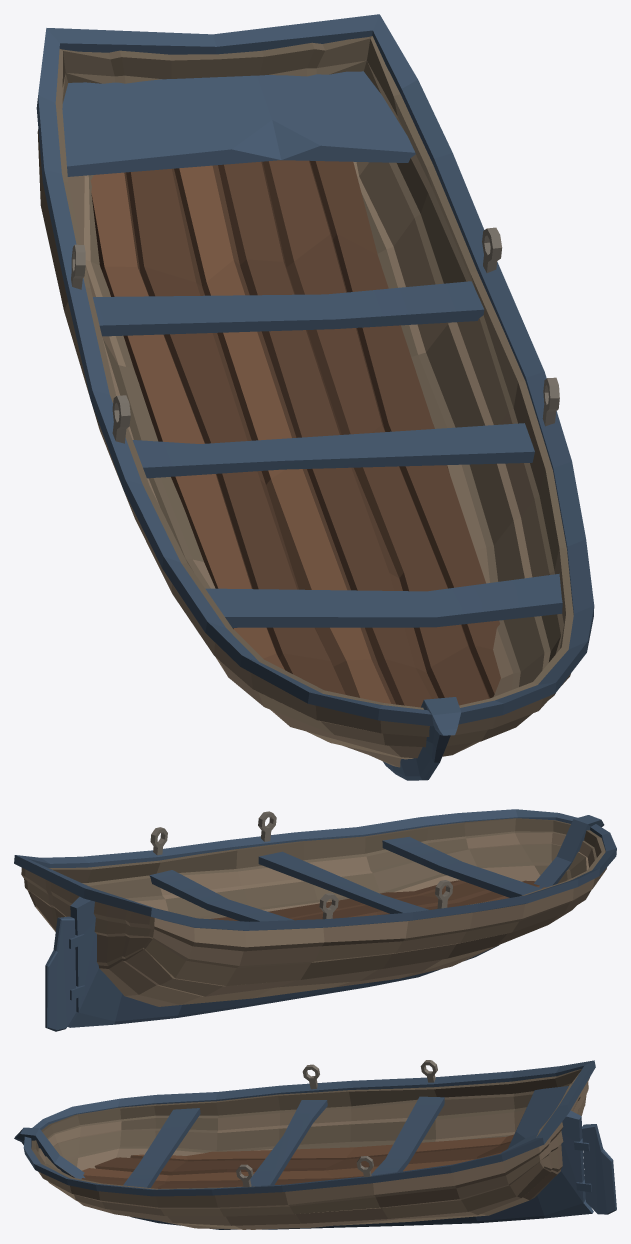
File: SM_Veh_Boat_Rowing_01_Hull.glb
3 renders of one model, top to bottom at view 1: azimuth 30°, elevation 25°; view 2: azimuth 150°, elevation 25°; view 3: azimuth 270°, elevation 25°, orthographic. The views are drawn at different scales.
Visible parts, largest first — view 1: node_id4; view 2: node_id4; view 3: node_id4.
Boxes of the visible parts, bbox=[...] form: node_id4: bbox=[36, 14, 594, 780]; node_id4: bbox=[14, 809, 616, 1031]; node_id4: bbox=[14, 1060, 616, 1229].
Size of the model in its own units: 0.7146 by 0.4574 by 1.33.
Materials: 1 (1 with a texture image).
